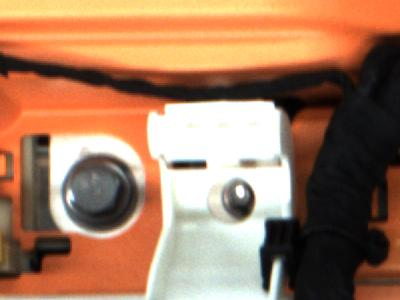nut_b: (48, 151, 145, 239)
